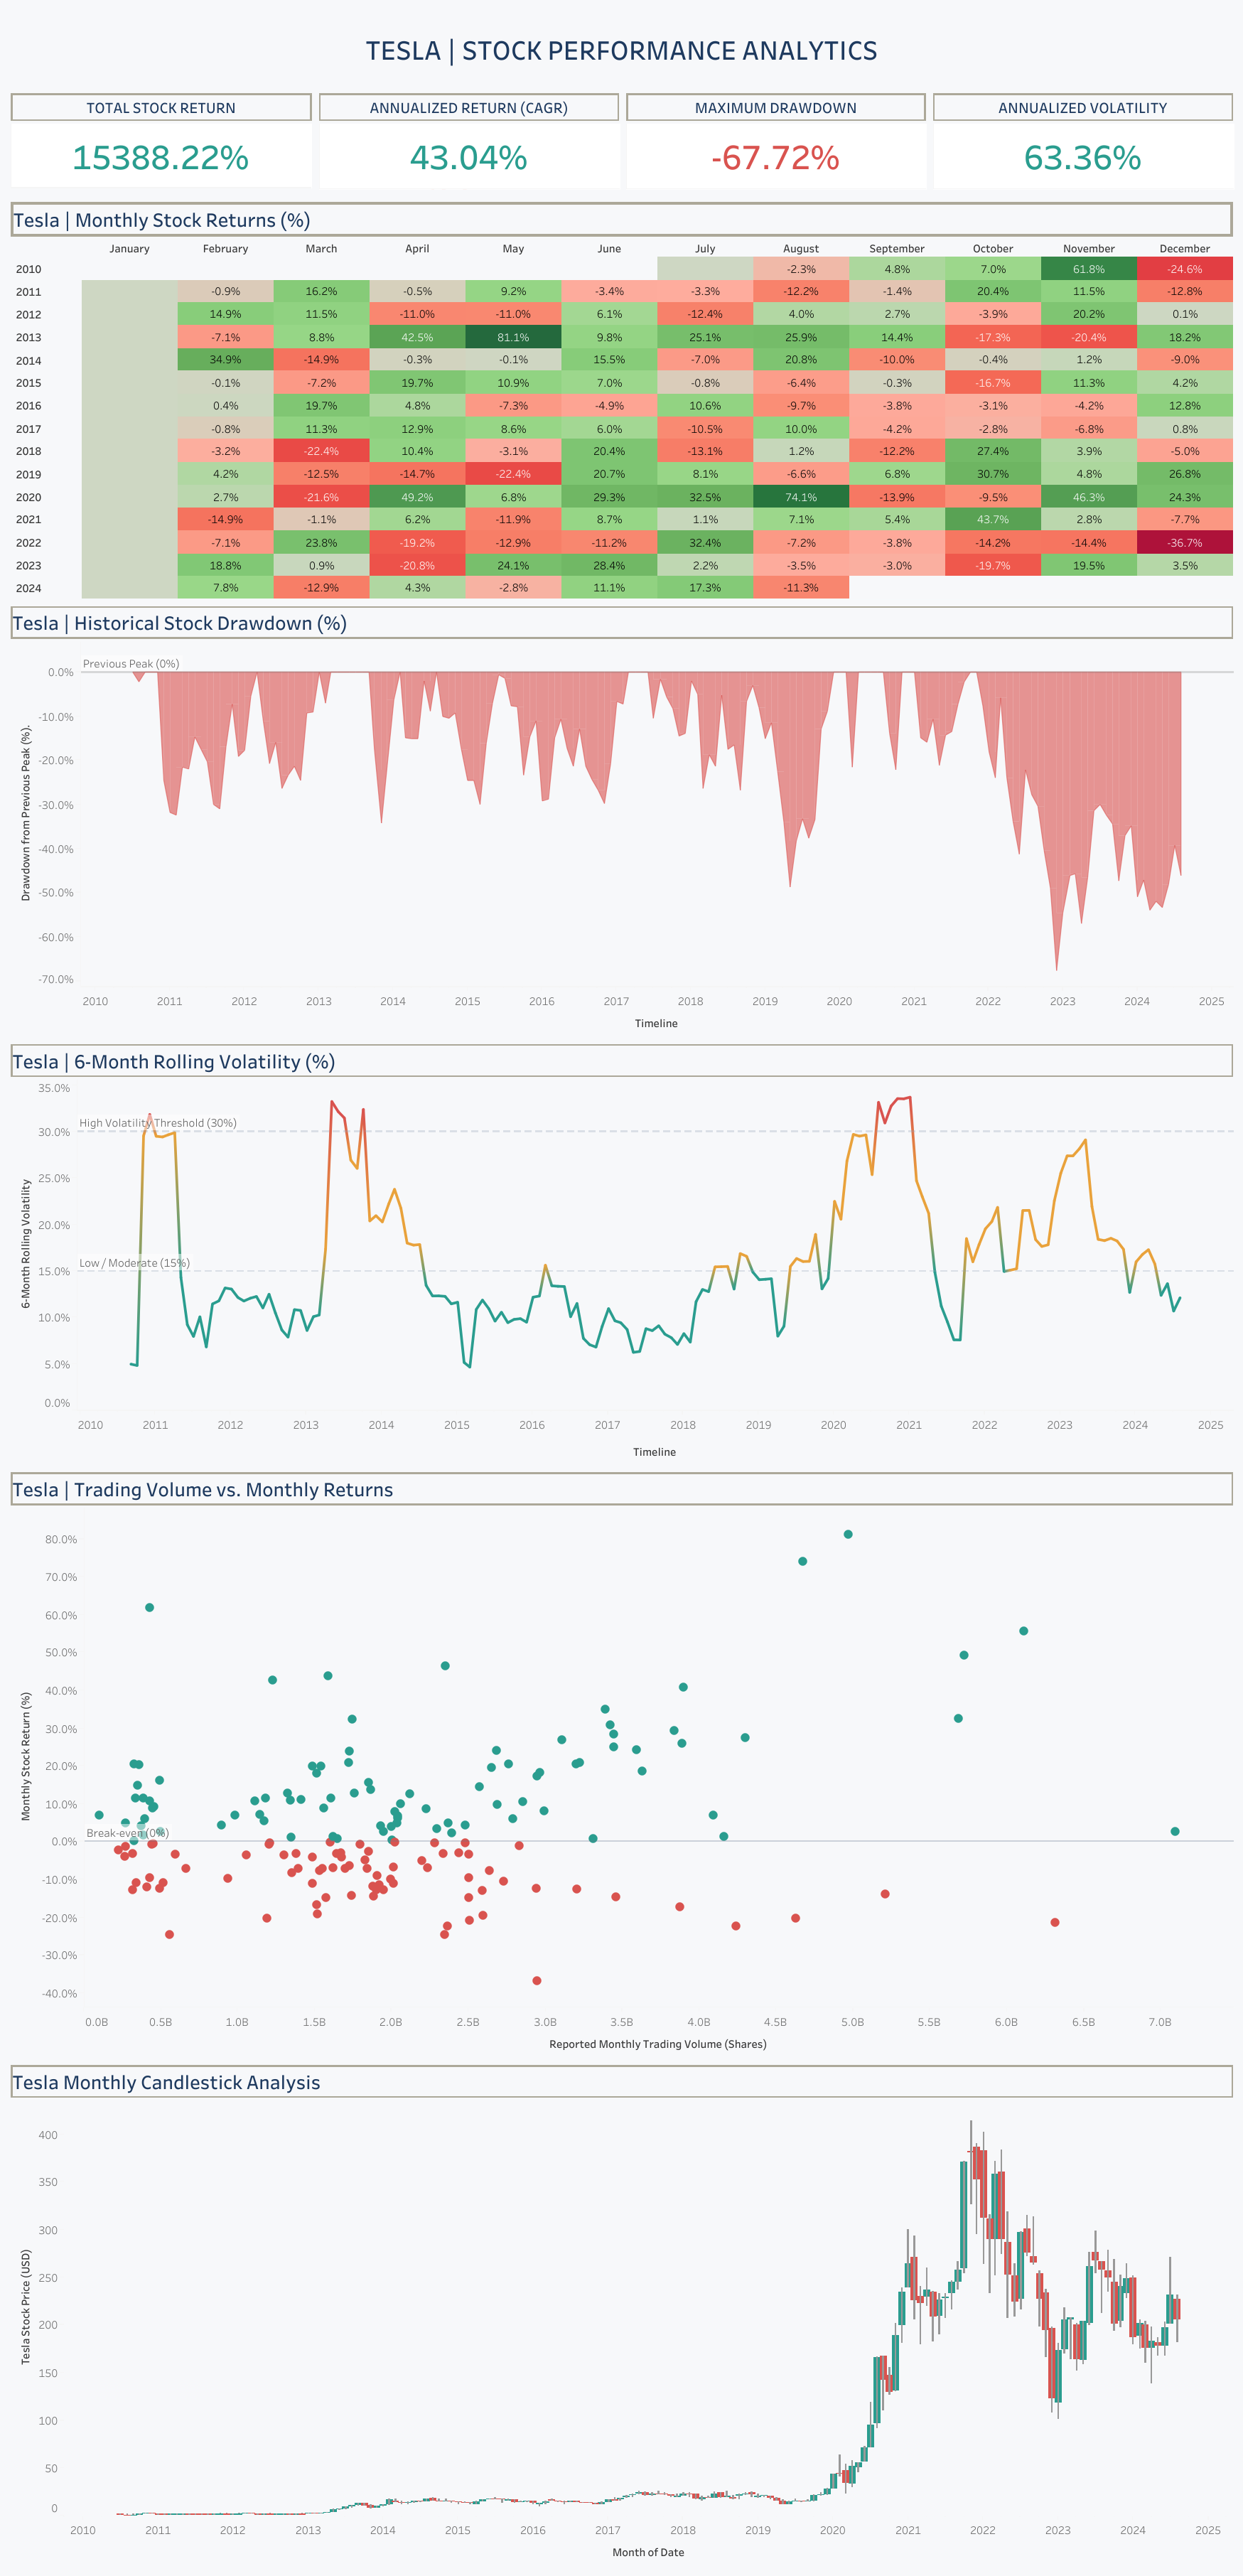

What the dashboard file says about the page in this screenshot:
{"tool":"tableau","page":{"name":"Tesla Stock Dashboard","canvas":[1400,2900],"ordinal":0},"visuals":[{"type":"text","box":[8,8,1384,93]},{"type":"worksheet","title":"Total Stock returns","mark":"Text","cols":["Date"],"box":[8,101,347.5,122]},{"type":"worksheet","title":"CAGR","mark":"Text","cols":["Date"],"box":[355.5,101,345.5,122]},{"type":"worksheet","title":"Maximum Draw Down","mark":"Text","cols":["Date"],"box":[701,101,345.5,122]},{"type":"worksheet","title":"Annualized volatility","mark":"Text","cols":["Date"],"box":[1046.5,101,345.5,122]},{"type":"worksheet","title":"Monthly Returns Heatmap","mark":"Square","rows":["Date"],"cols":["Date"],"box":[8,223,1384,455]},{"type":"worksheet","title":"Stock Drawdown analysis","mark":"Area","rows":["Calculation_1394790534631432"],"cols":["Date"],"box":[8,678,1384,493]},{"type":"worksheet","title":"Stock Volatility Analysis","mark":"Automatic","rows":["Calculation_1394790539730954"],"cols":["Date"],"box":[8,1171,1384,482]},{"type":"worksheet","title":"Volume vs Return Analysis","mark":"Circle","cols":["Calculation_1394790543990798"],"box":[8,1653,1384,667]},{"type":"worksheet","title":"Candle Stick Analysis","mark":"GanttBar","rows":["Calculation_1394790554812438","Calculation_1394790555144216"],"cols":["Date"],"box":[8,2320,1384,572]}]}

Visuals, with their boxes in screenshot pixels (x1, y1, x2, y2), scaled from the page's 1400x2900 canvas onto the 1243x2576 screenshot:
text: rect(7, 7, 1236, 90)
"Total Stock returns" worksheet (Text marks): rect(7, 90, 316, 198)
"CAGR" worksheet (Text marks): rect(316, 90, 623, 198)
"Maximum Draw Down" worksheet (Text marks): rect(623, 90, 929, 198)
"Annualized volatility" worksheet (Text marks): rect(929, 90, 1236, 198)
"Monthly Returns Heatmap" worksheet (Square marks): rect(7, 198, 1236, 602)
"Stock Drawdown analysis" worksheet (Area marks): rect(7, 602, 1236, 1040)
"Stock Volatility Analysis" worksheet: rect(7, 1040, 1236, 1469)
"Volume vs Return Analysis" worksheet (Circle marks): rect(7, 1469, 1236, 2061)
"Candle Stick Analysis" worksheet (GanttBar marks): rect(7, 2061, 1236, 2569)
